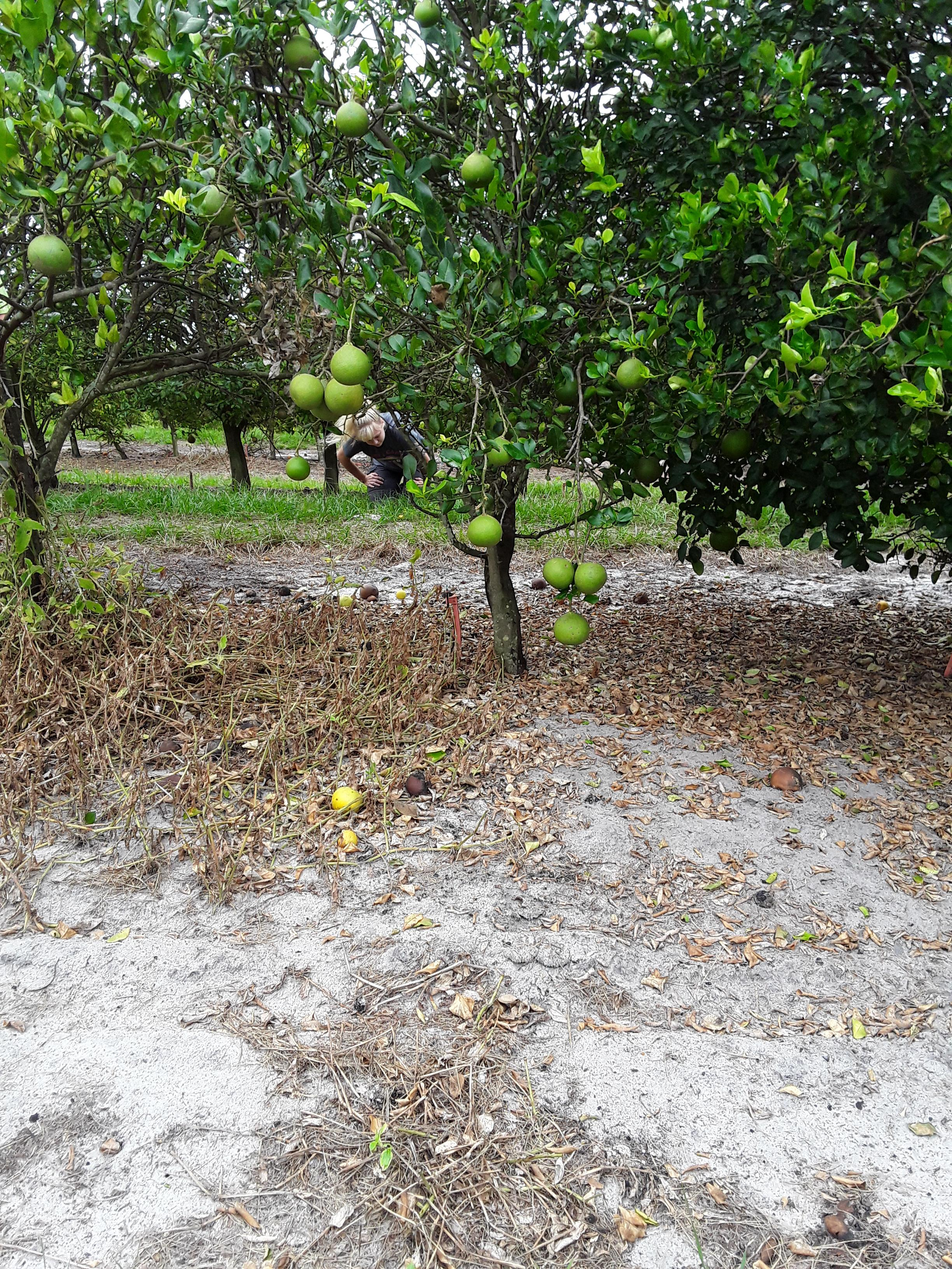fruit_on_ground: (20, 228, 75, 283), (334, 343, 374, 395), (281, 30, 320, 82), (193, 185, 237, 227), (459, 143, 496, 192), (326, 371, 365, 416), (334, 98, 372, 141), (716, 423, 753, 467), (469, 509, 504, 554), (290, 369, 324, 413), (308, 380, 343, 422), (483, 435, 522, 472), (553, 611, 588, 652), (615, 353, 648, 395), (552, 61, 592, 95), (577, 556, 611, 595), (548, 554, 580, 591), (555, 372, 584, 411), (708, 523, 743, 555), (413, 0, 444, 34), (630, 450, 658, 486), (286, 453, 312, 482), (185, 432, 197, 445)
fruit_on_tree: (331, 817, 365, 863), (766, 762, 805, 799), (332, 783, 366, 821), (159, 734, 185, 776), (404, 765, 434, 801), (179, 660, 208, 690), (824, 1217, 846, 1242), (527, 572, 551, 594), (631, 592, 652, 615), (359, 582, 382, 601), (275, 581, 295, 601), (394, 587, 412, 603), (339, 596, 359, 610), (875, 600, 891, 616), (847, 594, 861, 610), (366, 595, 383, 606)
